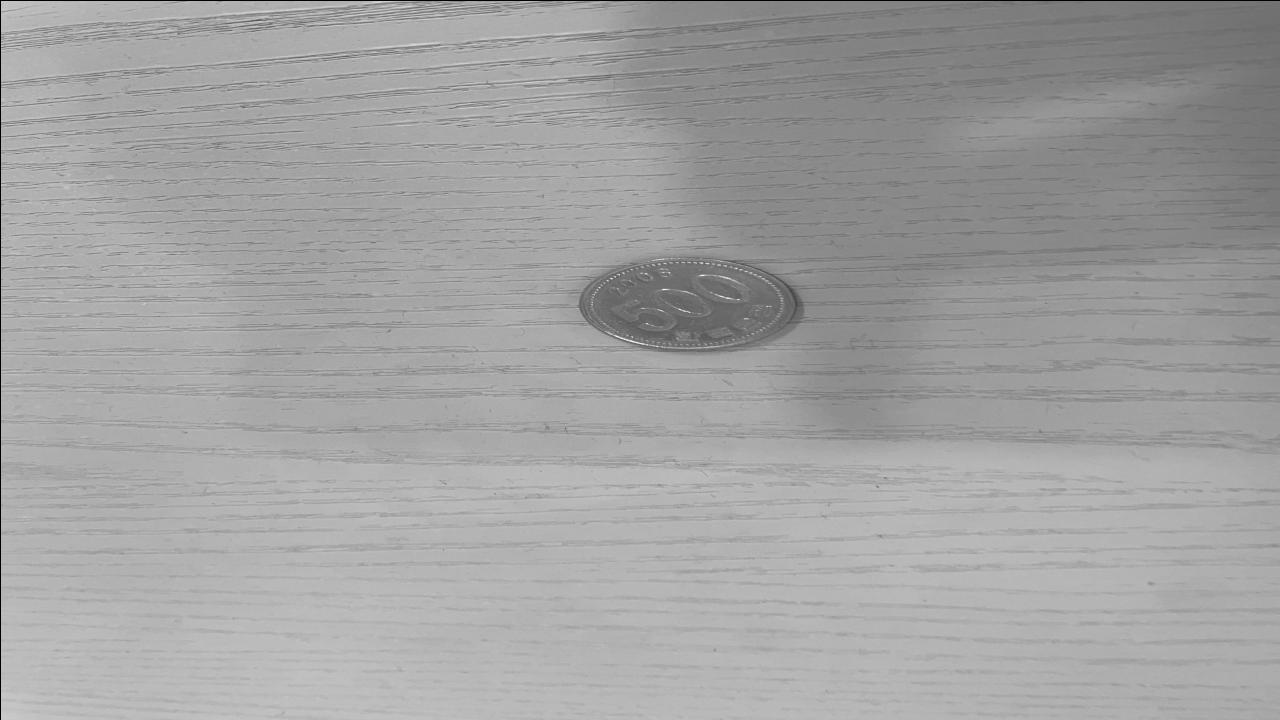coin: (579, 258, 799, 348)
